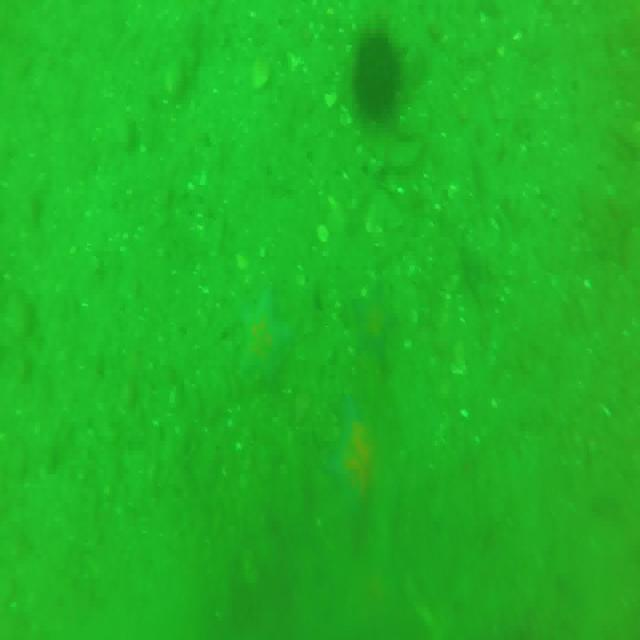echinus: (348, 21, 404, 123)
scallop: (249, 60, 272, 86), (318, 225, 331, 243)
starfish: (323, 396, 381, 534), (242, 285, 292, 392), (352, 281, 400, 365)
